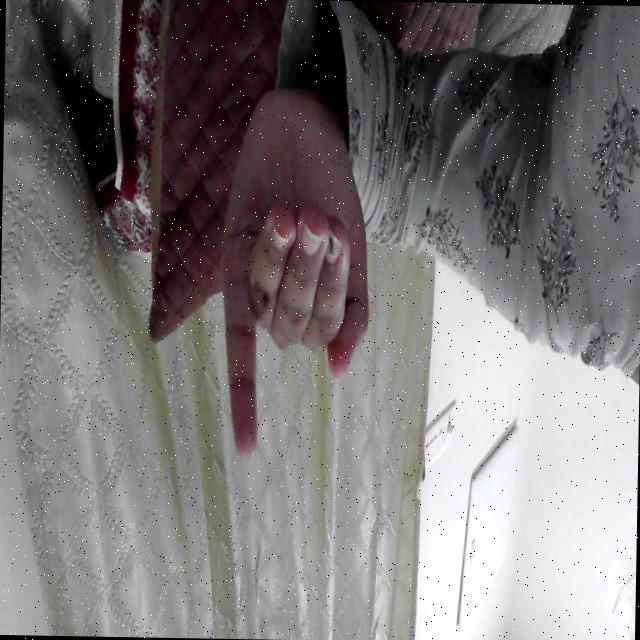Mrigashirsha: (198, 67, 377, 480)
